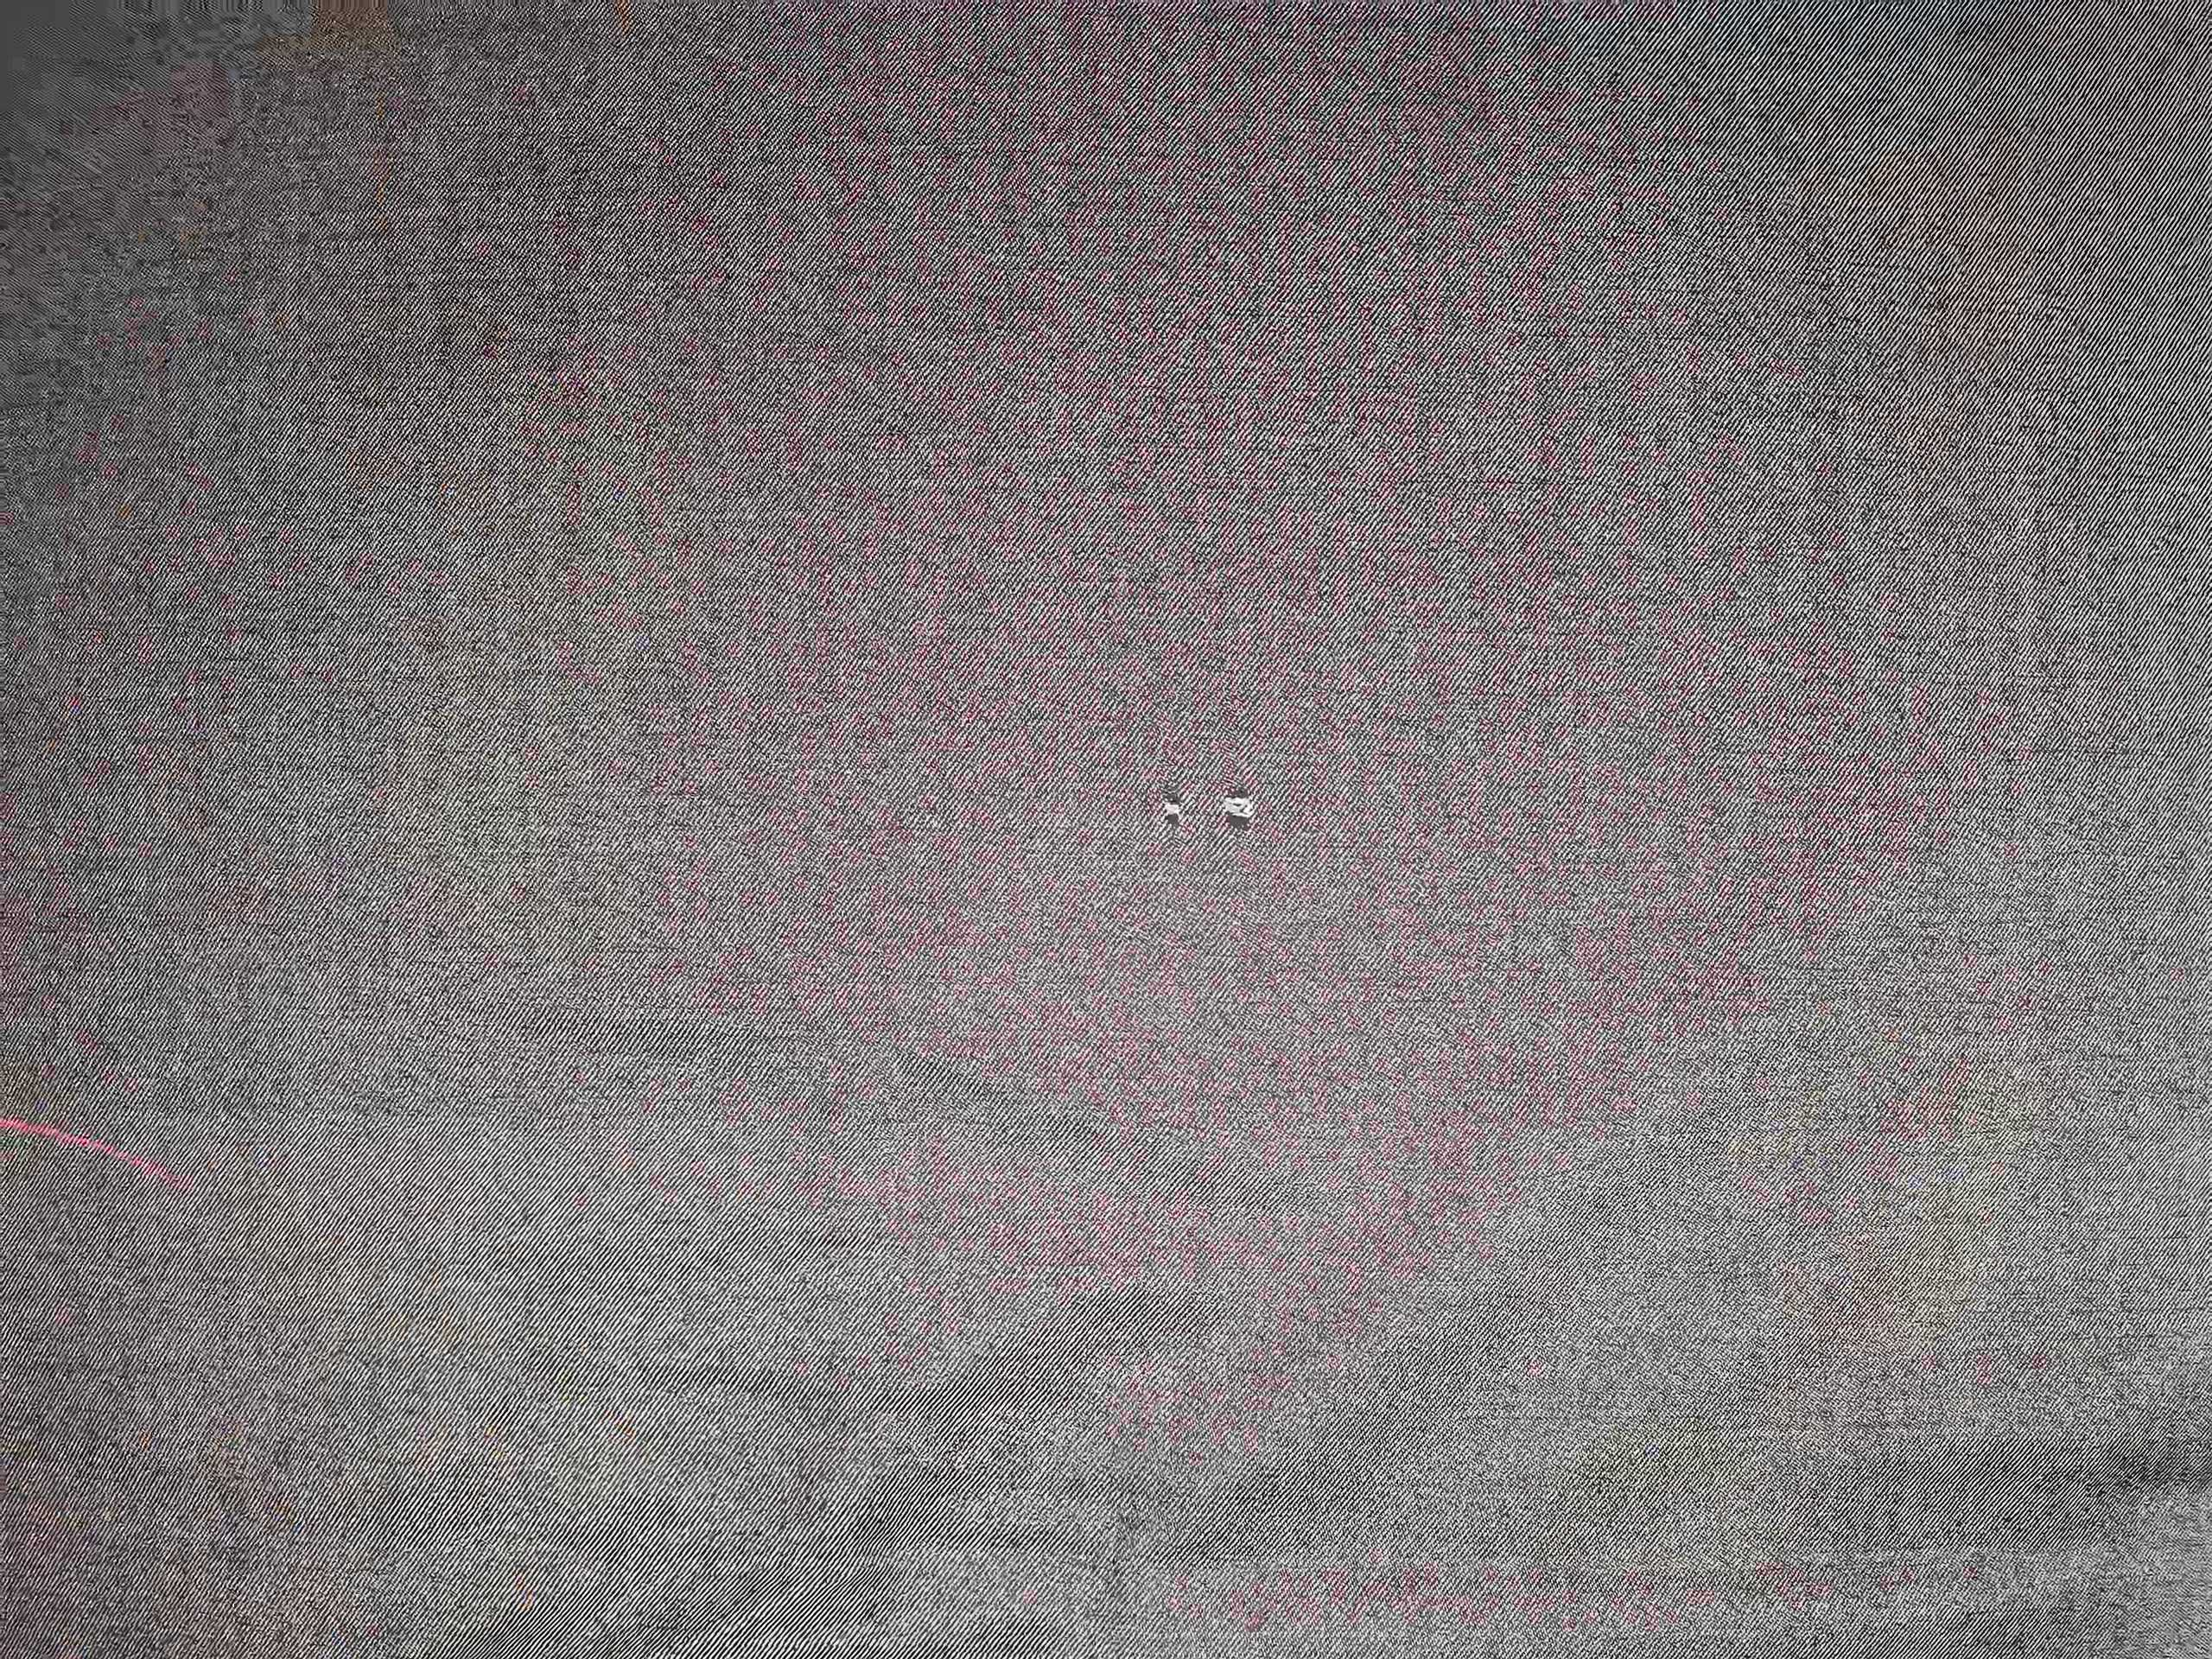rubbing-hole: (1130, 769, 1278, 854)
